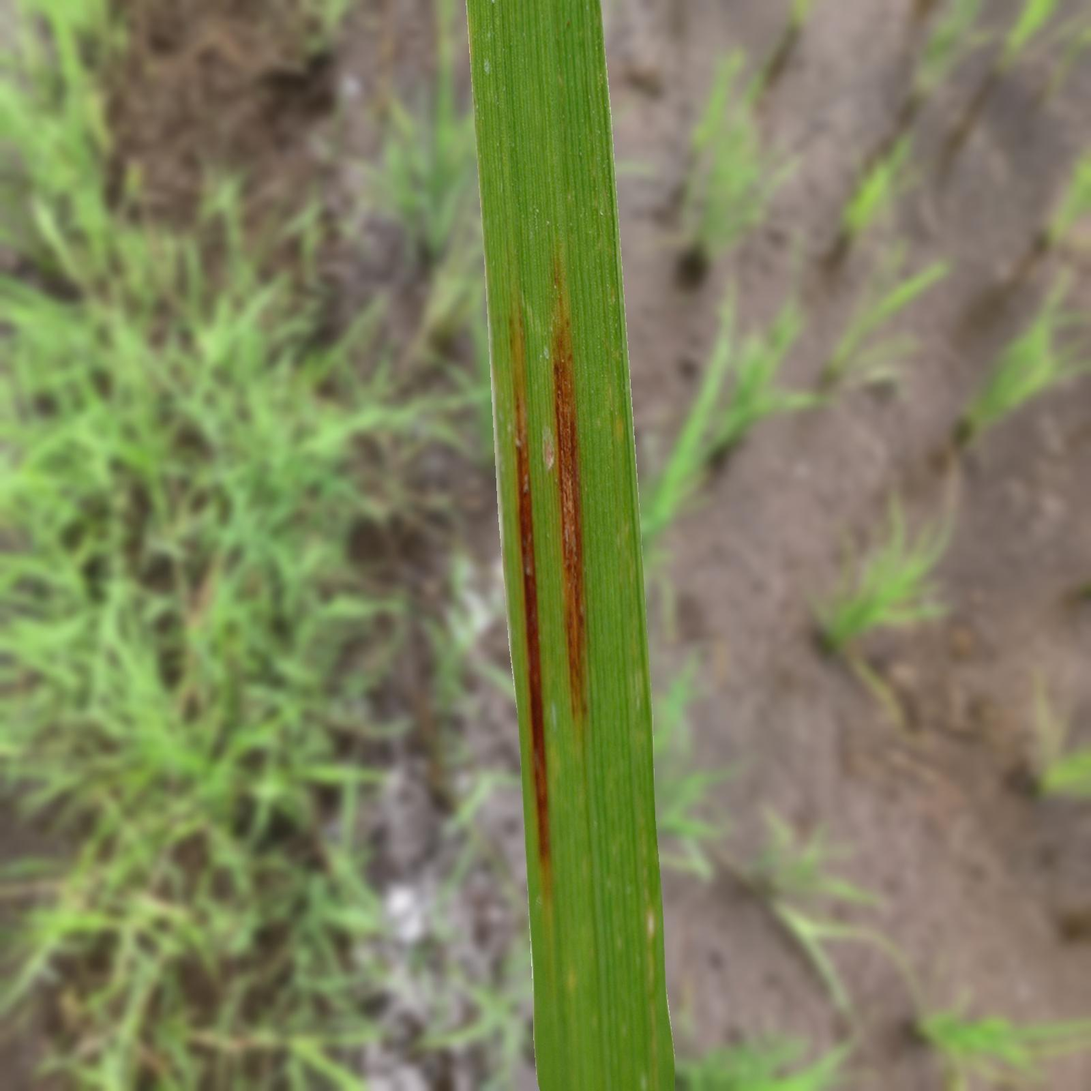LEAF: (466, 0, 675, 1090)
NBS: (509, 305, 550, 894), (551, 258, 586, 721)
